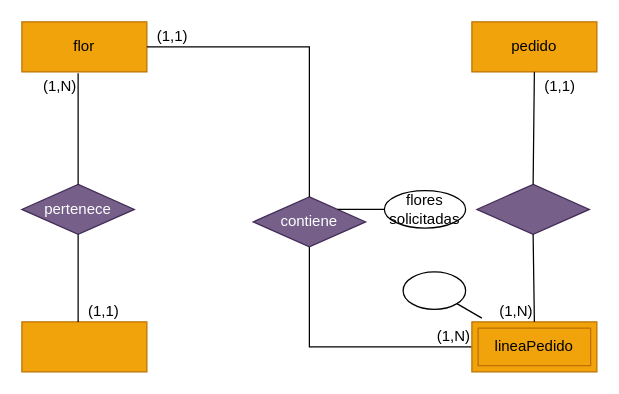
Image size: 619x394. Some labels were removed from this diagram. The shapes that lost their labels are listed below. From the top down, each one's centre as x and y in pixels, then its label:
pixel 532 208: tiene
pixel 434 290: cantidad
pixel 84 346: especie
